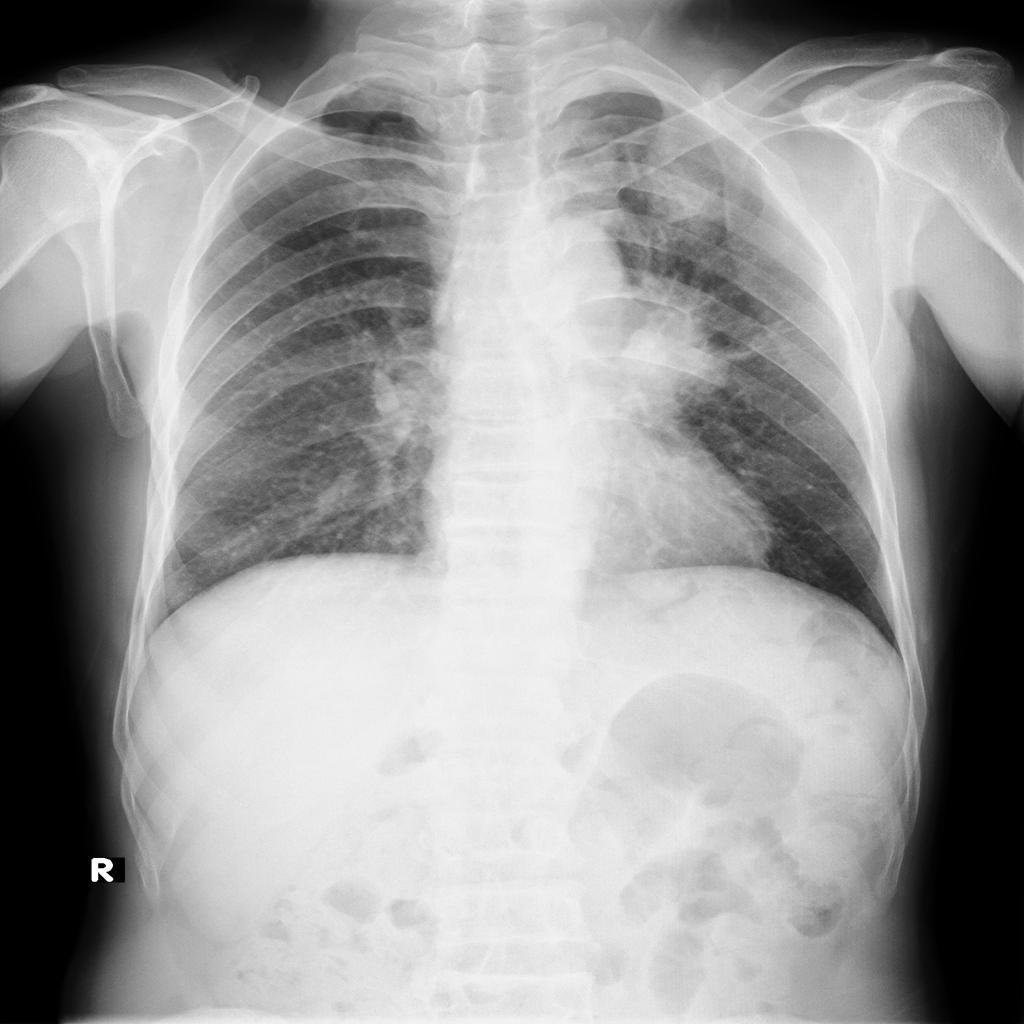Nodule: (628, 306, 730, 428), (637, 156, 721, 225)
